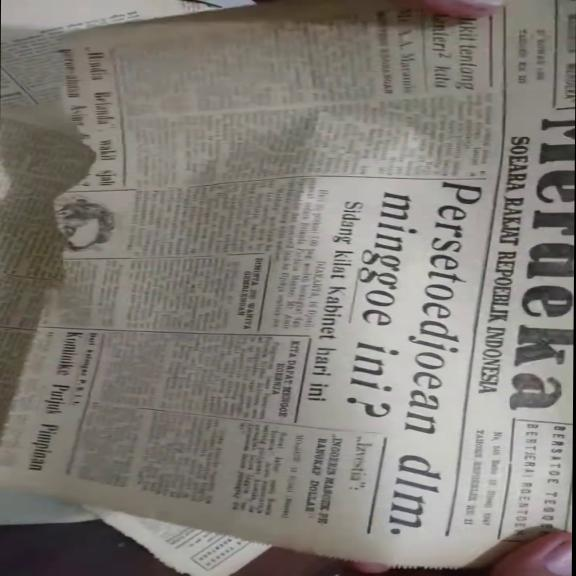Kertas: (89, 12, 504, 187)
